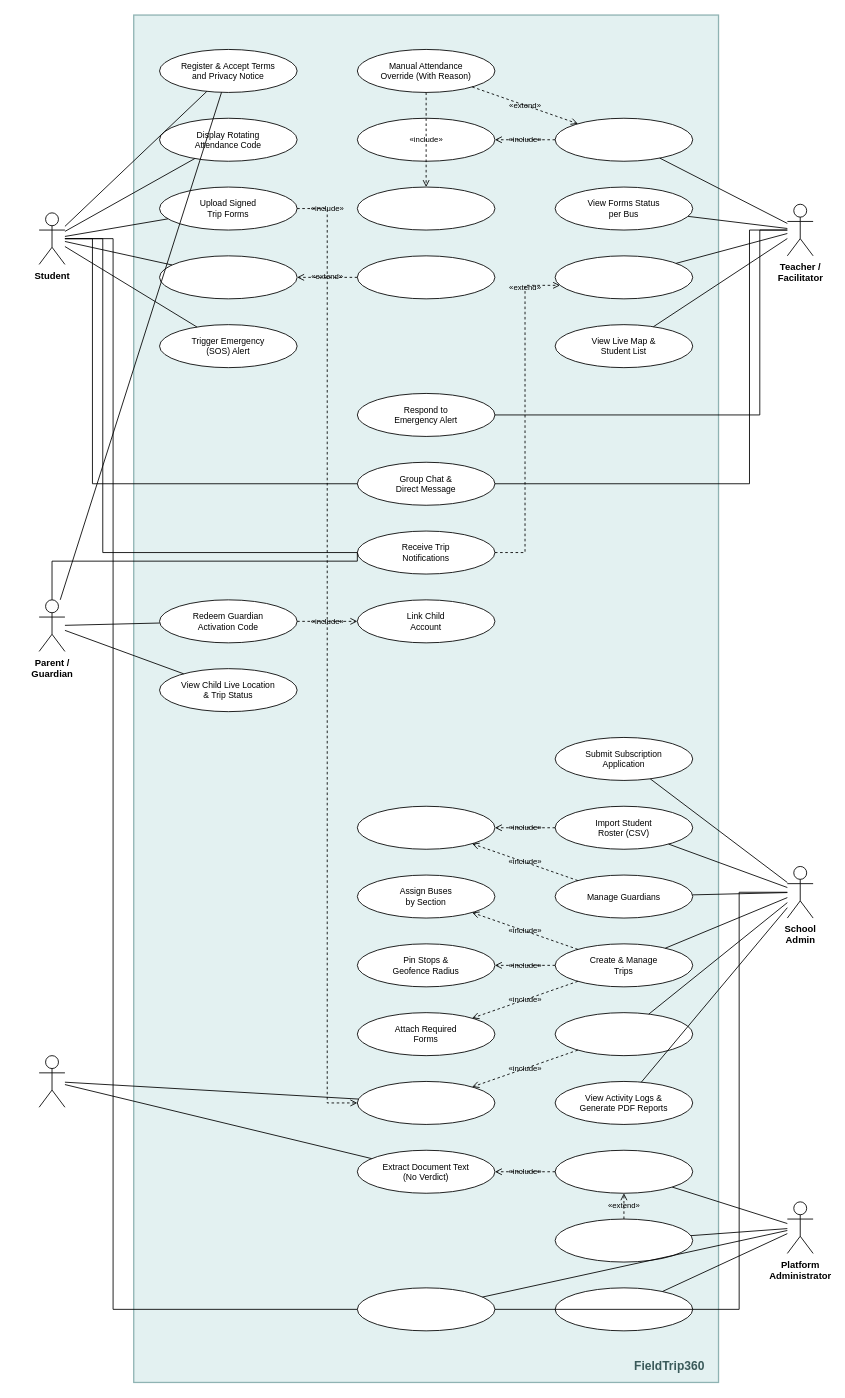
Some shapes in this 845 by 1398 pixel diagram are drawn without their labels. The shapes that lost their labels are listed below. From the top down, each one's box as (x1, y1, x2, y2) in pixels, then its label:
(356, 117, 495, 161): Verify Token & Device Proximity
(554, 117, 693, 161): Scan Student's Code (Own Bus Only)
(356, 186, 495, 230): Notify Guardian of Override (With Reason)
(159, 255, 297, 299): Share Live Location (While Trip In Progress)
(356, 255, 495, 299): Receive Geofence Alert
(554, 255, 693, 299): Execute Trip (Start / Arrive / Depart / Complete)
(356, 805, 495, 849): Send Guardian Activation Codes
(554, 1012, 693, 1056): Review Document Submissions (Override)
(38, 1055, 65, 1107): Gemini AI (Text Extraction)
(356, 1081, 495, 1124): Verify Submitted Form (AI)
(554, 1149, 693, 1193): Review Subscription Application
(554, 1218, 693, 1262): Approve & Provision School Account
(356, 1287, 495, 1331): Submit Support Request (Any Signed-In Role)
(554, 1287, 693, 1331): Publish Announcement / Suspend School
